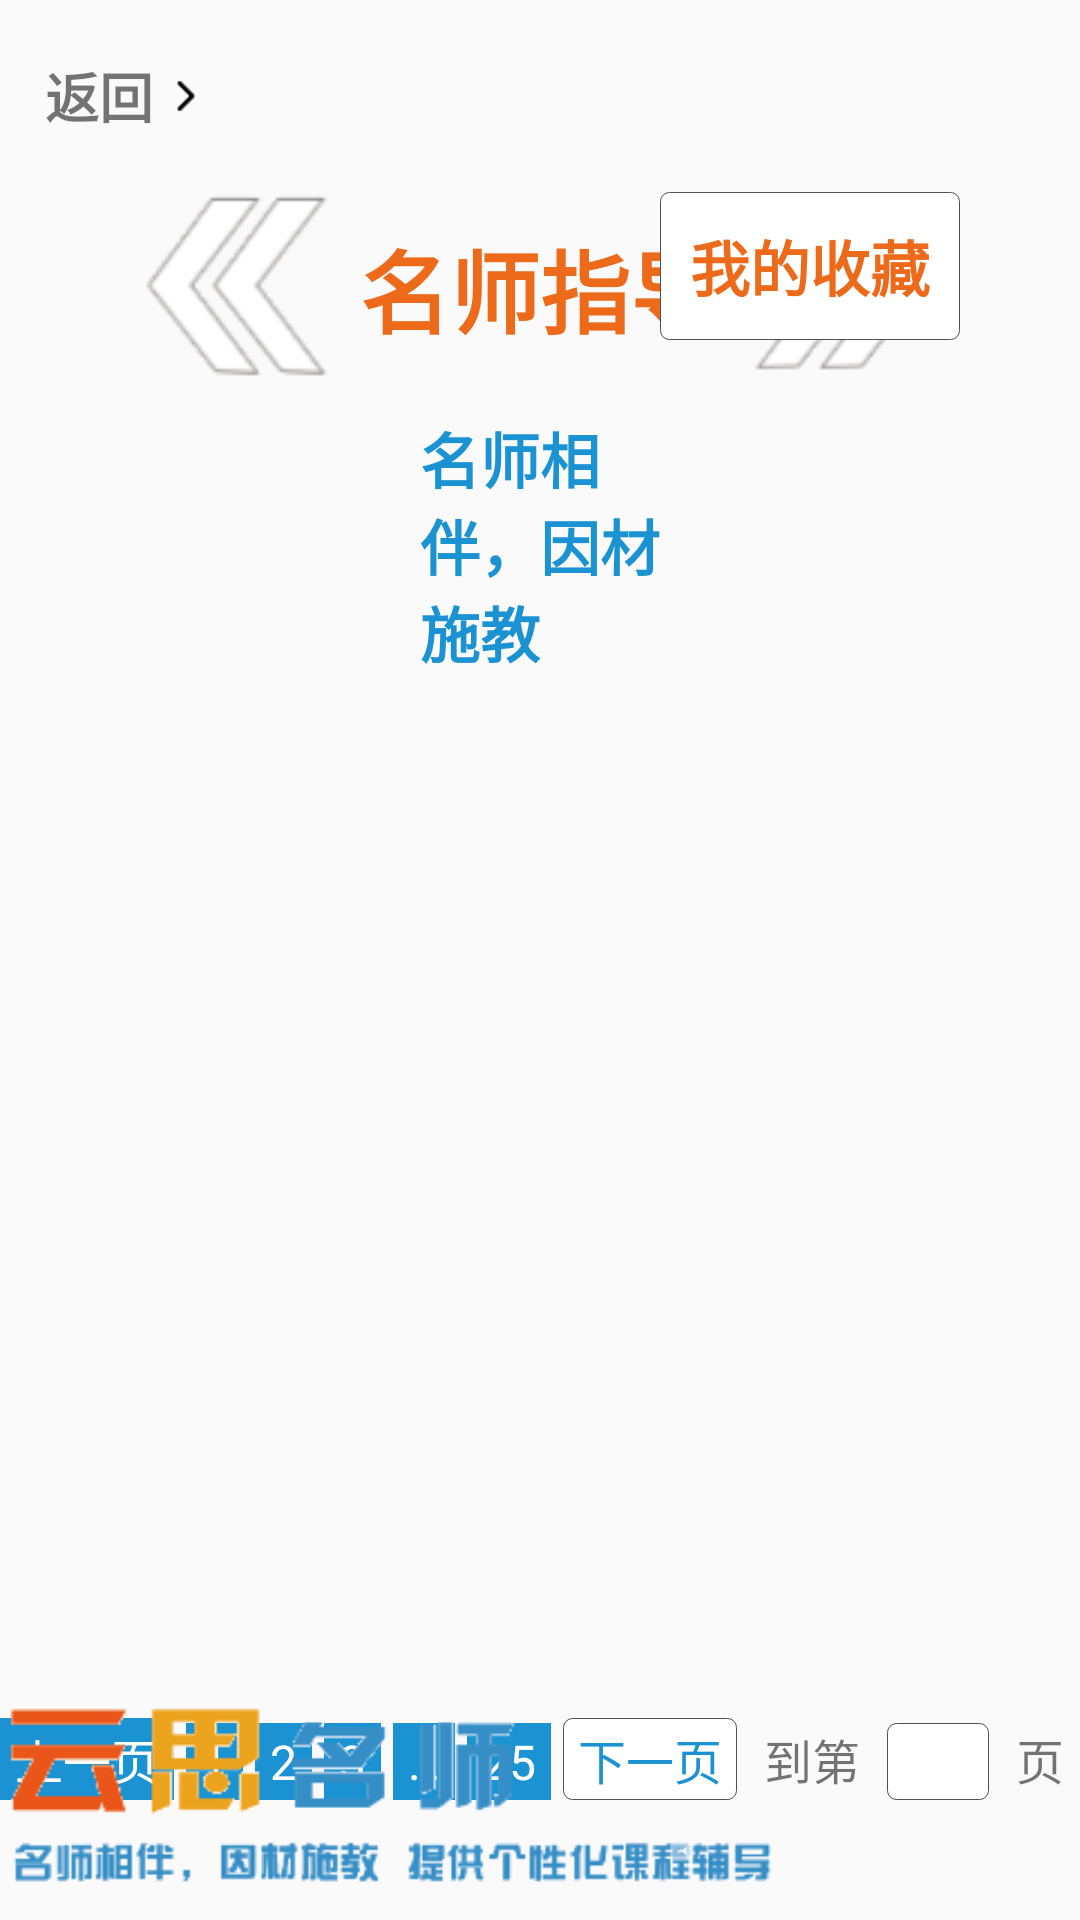

Icon click points for this 1080 x 1920 phone screenshot, format point (x, y):
left: point (236, 286)
